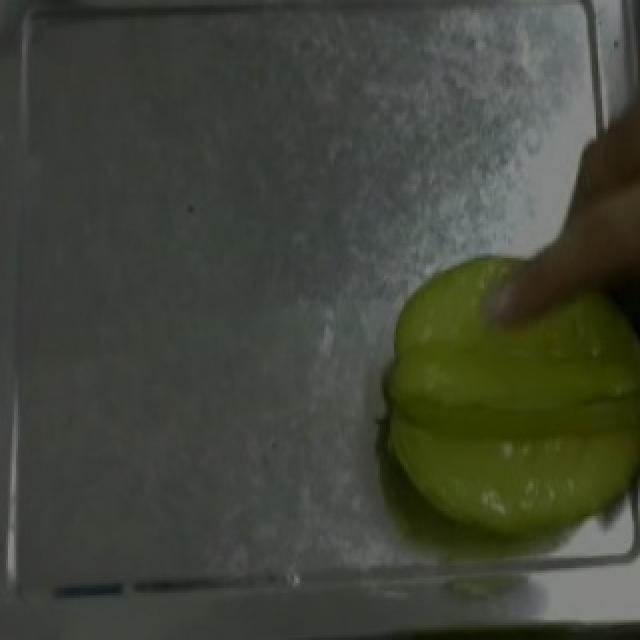fruit: (352, 238, 640, 573)
